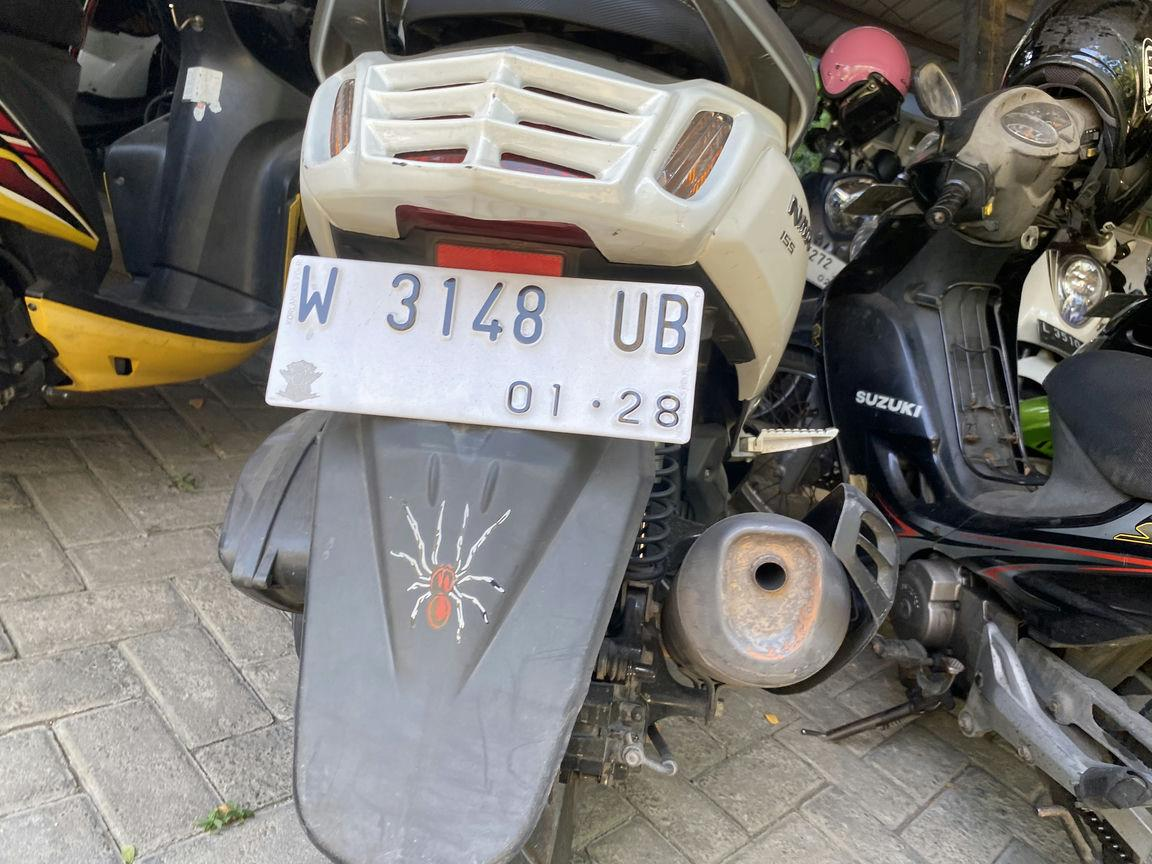plat: (268, 254, 704, 443)
